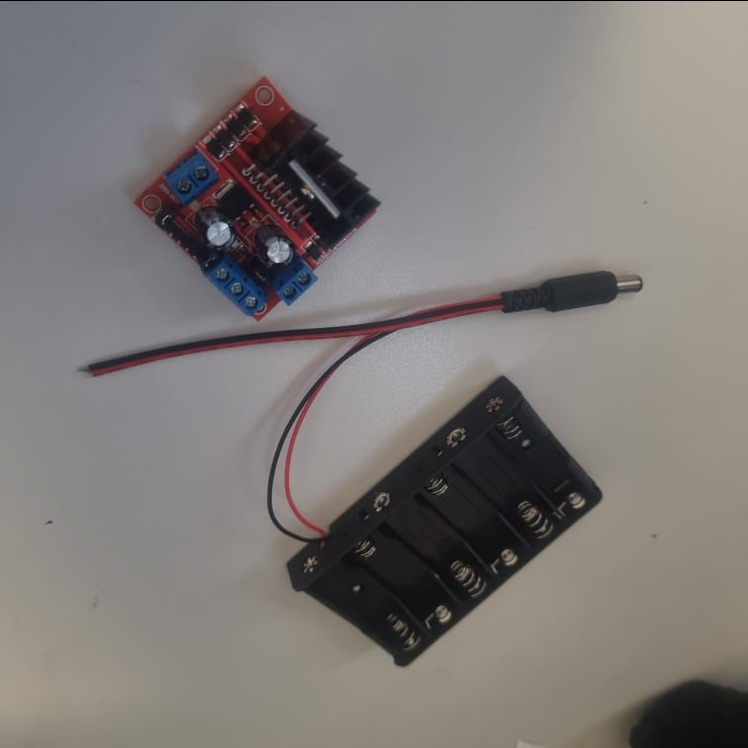BATTERY BOX: (284, 374, 601, 667)
MOTOR: (132, 73, 380, 325)
